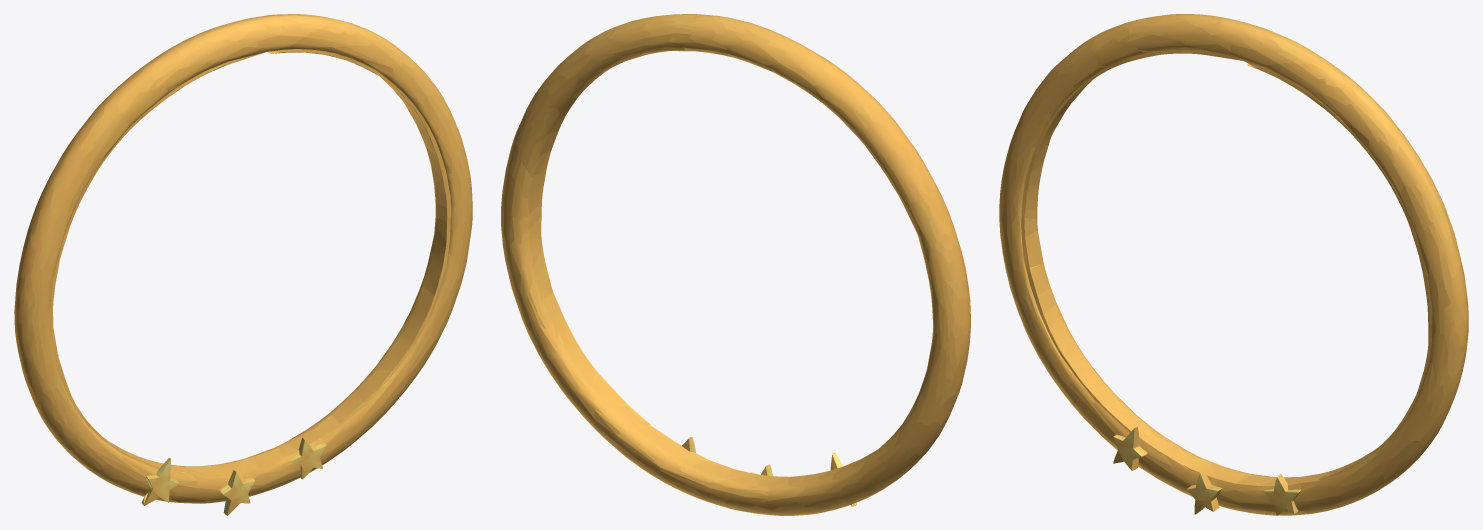
Rendered from angel.glb.
The picture shows the model from 3 angles, left to right: view 1: azimuth 30°, elevation 25°; view 2: azimuth 150°, elevation 25°; view 3: azimuth 330°, elevation 25°; orthographic projection. The views are drawn at different scales.
Parts seen in each view (by area): view 1: mesh_node; view 2: mesh_node; view 3: mesh_node.
Part boxes in pixels (left/top/right/bottom): mesh_node: left=14, top=14, right=472, bottom=515; mesh_node: left=501, top=14, right=970, bottom=515; mesh_node: left=999, top=14, right=1468, bottom=515.
Size of the model in its own units: 1.59 by 1.61 by 0.1462.
1 material, 1 textured.
